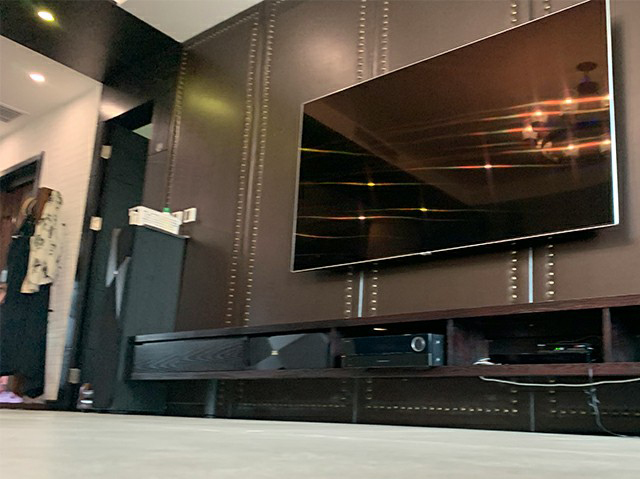cabinet: (124, 293, 640, 436)
wire: (483, 375, 640, 391)
